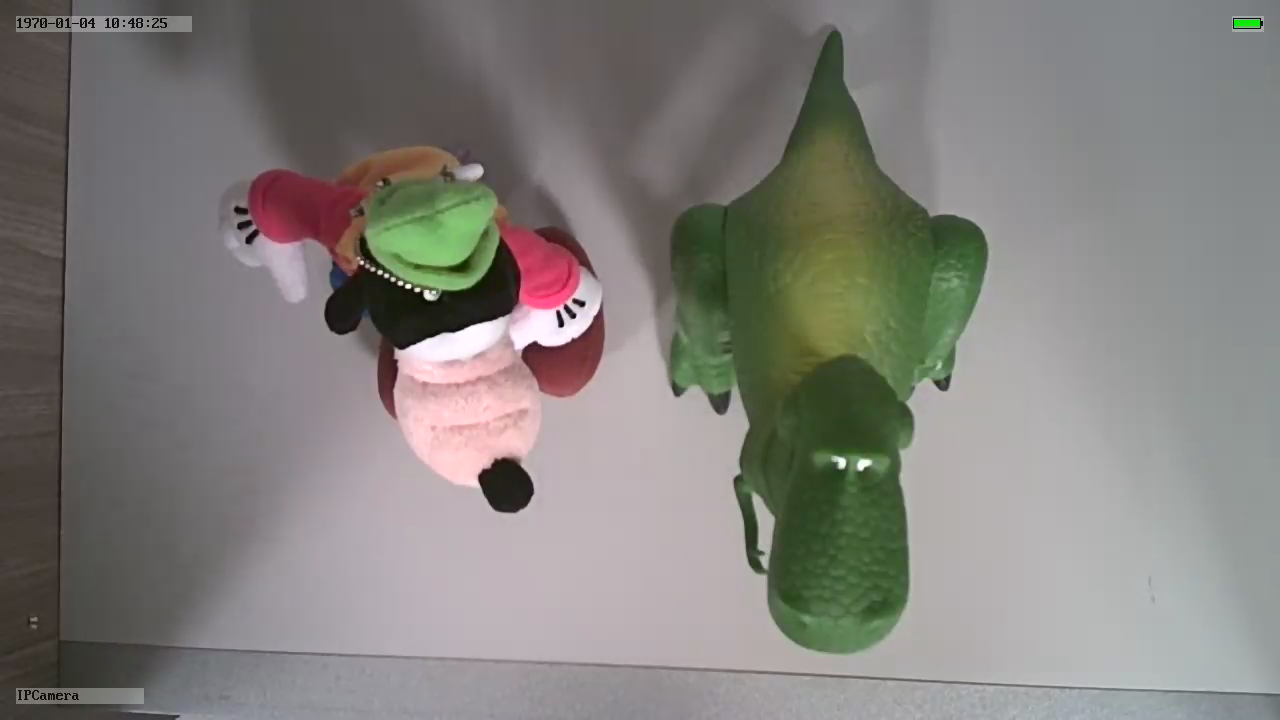goofy: (219, 141, 613, 518)
